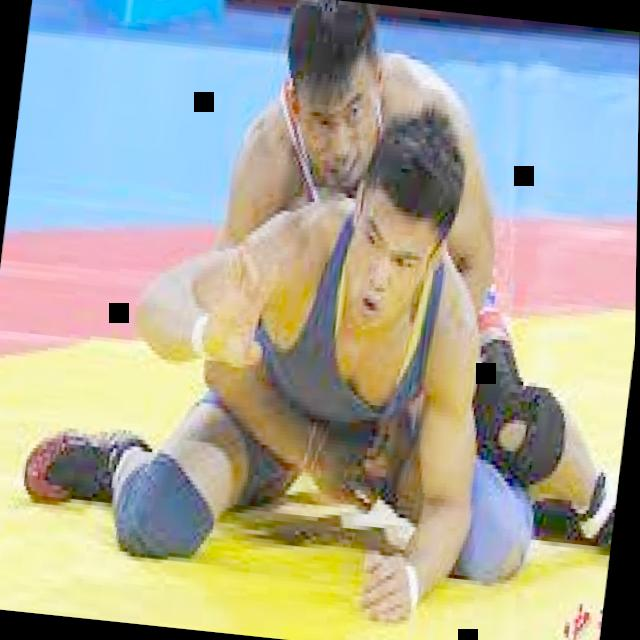Fall-Detected: (192, 0, 640, 574)
